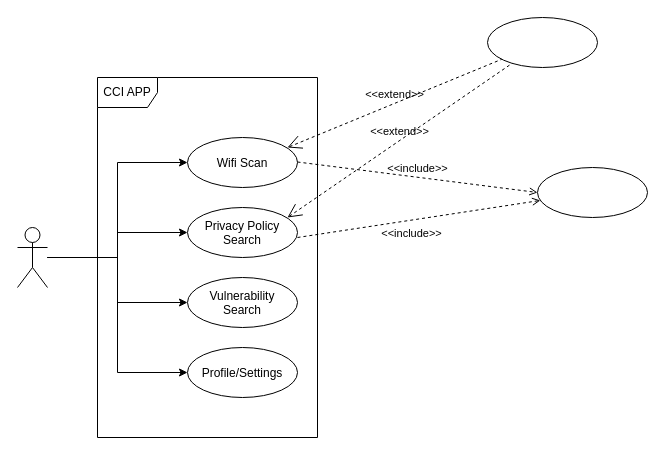
Image size: 665x455. Some labels were removed from this diagram. The centre of each missing label's shape, as x and y in pixels:
"TOSDR / Topic Modeling" goes at (x=592, y=192).
"Unknown Vendor" goes at (x=542, y=42).
"User" goes at (x=32, y=257).
